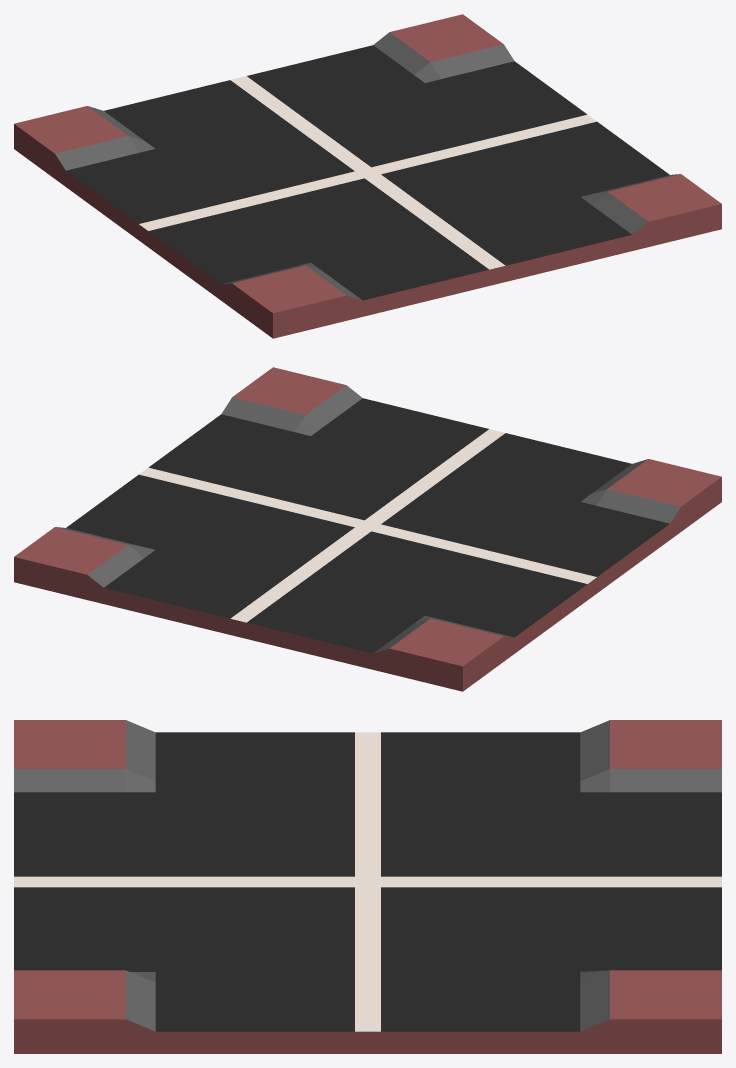
The model's file is skrzyzowanie2.fbx.
3 renders of one model, top to bottom at view 1: azimuth 30°, elevation 25°; view 2: azimuth 150°, elevation 25°; view 3: azimuth 270°, elevation 25°, orthographic. The views are drawn at different scales.
Visible parts, largest first — view 1: Skrzyzowanie; view 2: Skrzyzowanie; view 3: Skrzyzowanie.
Boxes of the visible parts, x1=… form: Skrzyzowanie: x1=14, y1=14, x2=721, y2=338; Skrzyzowanie: x1=14, y1=367, x2=721, y2=691; Skrzyzowanie: x1=14, y1=720, x2=721, y2=1053.
Bounding box in the file's own units: 250 × 13.47 × 250.
